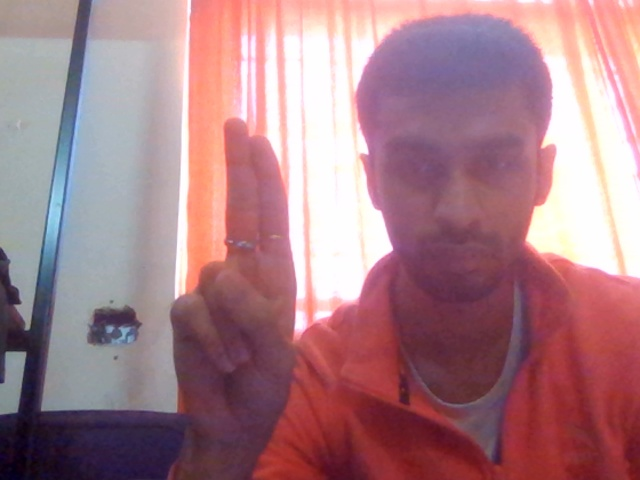U: (132, 82, 366, 471)
